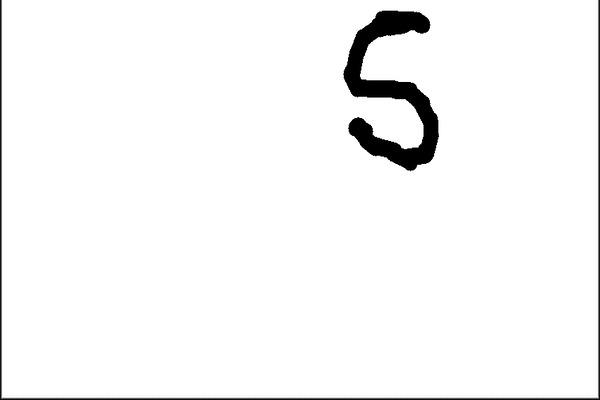S: (327, 2, 449, 182)
